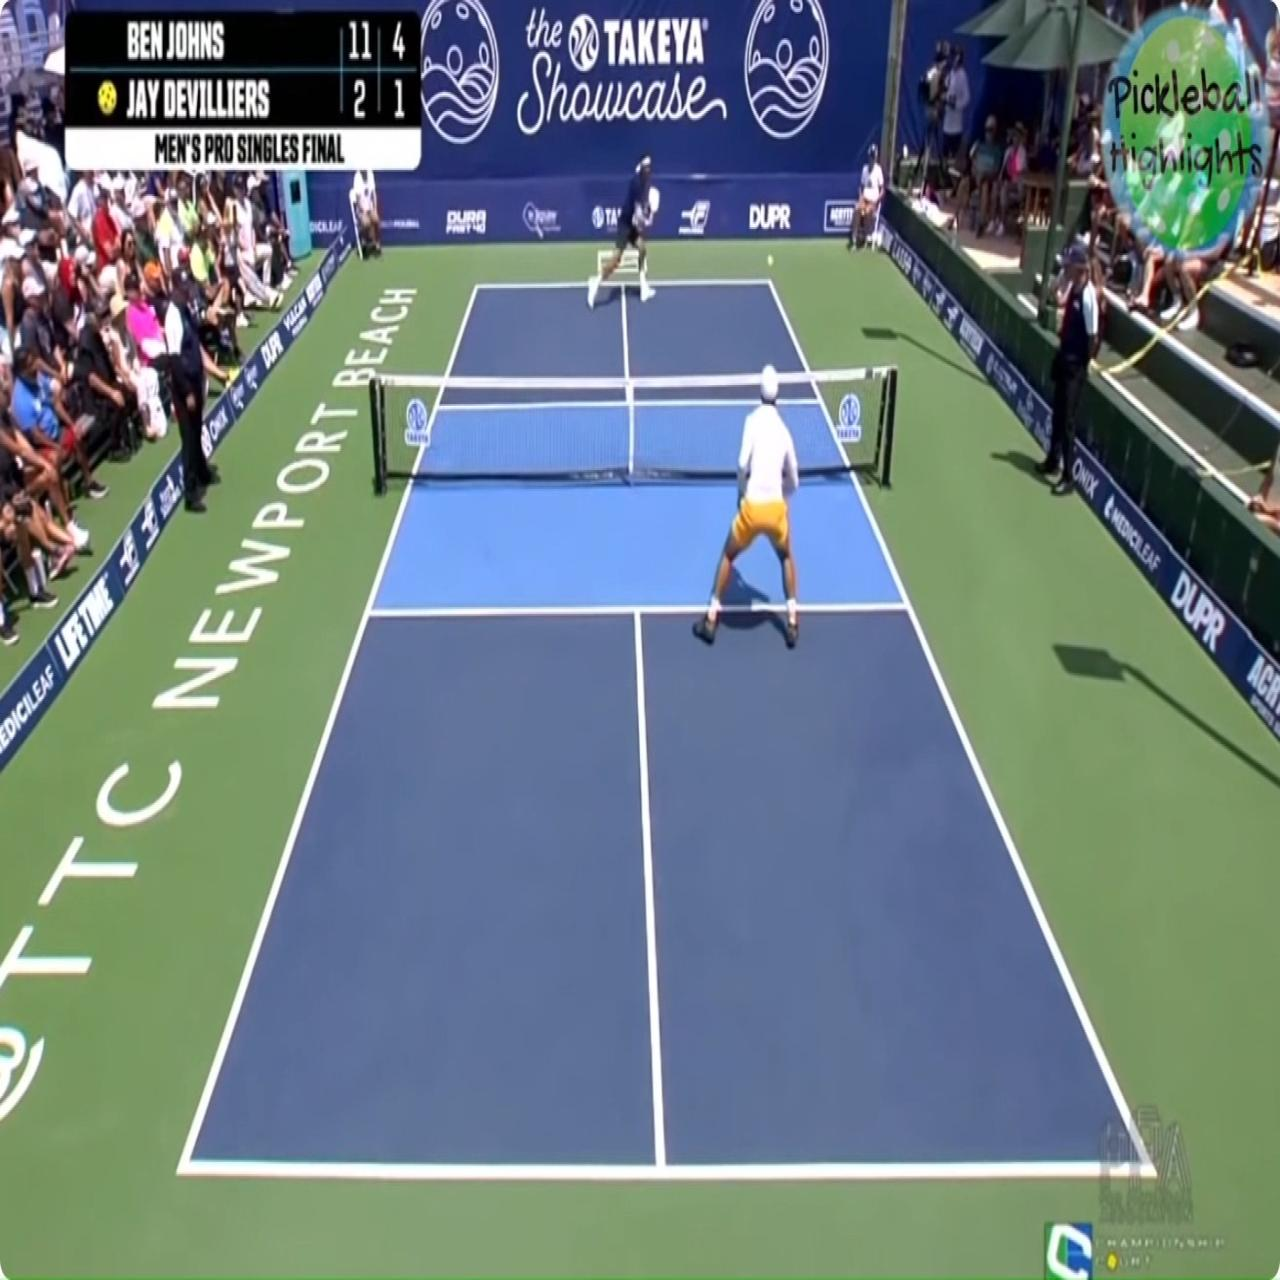pickleball: (768, 256, 774, 266)
